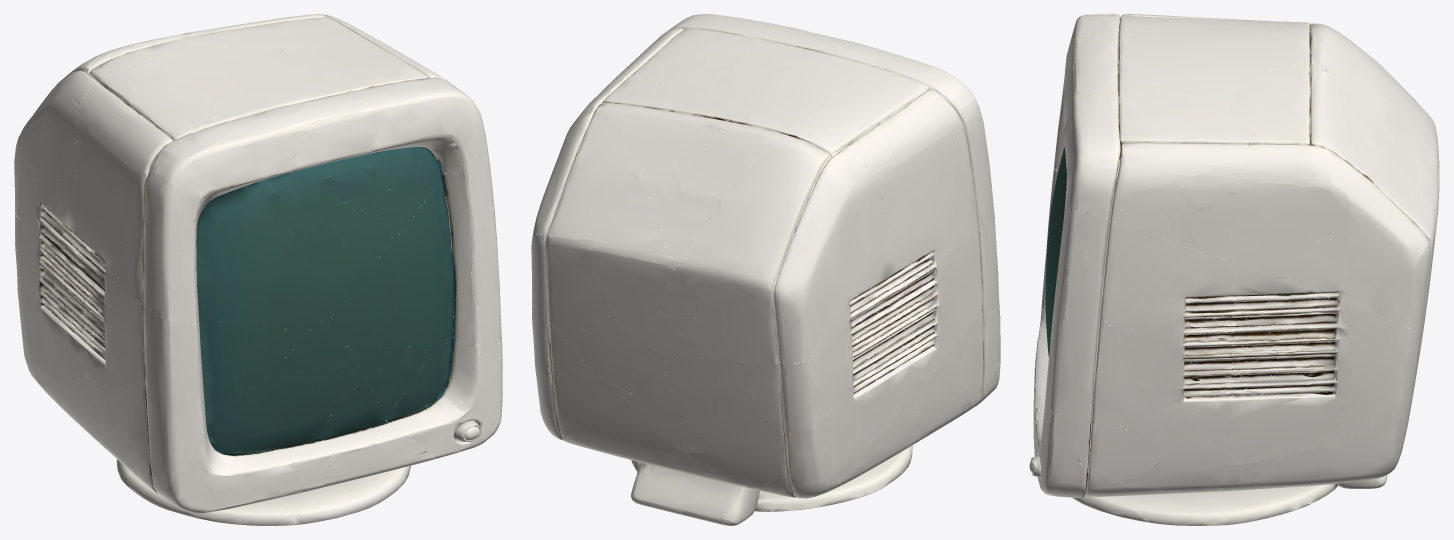
The model's file is computer.fitted.glb.
The picture shows the model from 3 angles, left to right: view 1: azimuth 30°, elevation 25°; view 2: azimuth 150°, elevation 25°; view 3: azimuth 270°, elevation 25°; orthographic projection. The views are drawn at different scales.
Visible parts, largest first — view 1: computer; view 2: computer; view 3: computer.
Part boxes in pixels (bbox=[...]): computer: bbox=[14, 14, 502, 525]; computer: bbox=[531, 14, 1000, 525]; computer: bbox=[1029, 14, 1439, 525].
Size of the model in its own units: 0.8893 by 0.9801 by 0.9211.
Materials: 1 (1 with a texture image).
